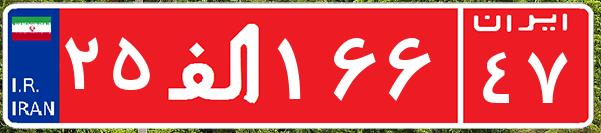1: (273, 28, 330, 110)
2: (57, 26, 110, 107)
4: (475, 38, 525, 113)
5: (110, 28, 158, 105)
6: (385, 28, 445, 110), (330, 28, 385, 110)
7: (525, 38, 570, 115)
الف: (158, 15, 273, 115)
